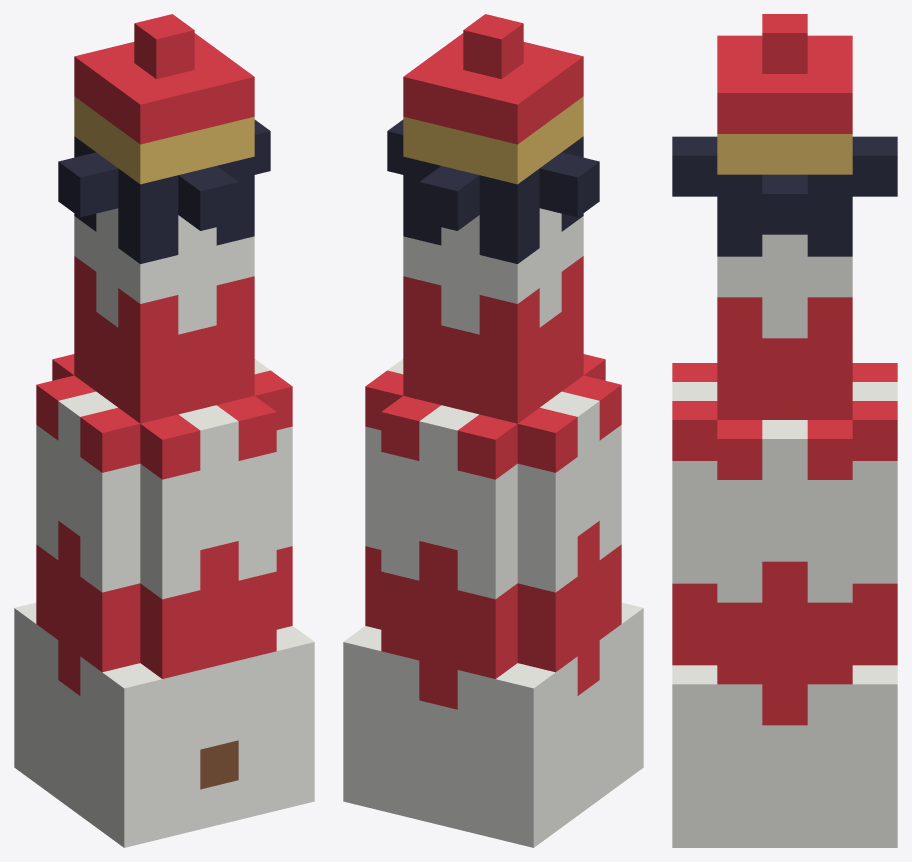
File: lighthouse.glb
The picture shows the model from 3 angles, left to right: view 1: azimuth 30°, elevation 25°; view 2: azimuth 150°, elevation 25°; view 3: azimuth 270°, elevation 25°; orthographic projection. The views are drawn at different scales.
Parts seen in each view (by area): view 1: lighthouse_offwhite, lighthouse_red, lighthouse_black, lighthouse_gold, lighthouse_door; view 2: lighthouse_offwhite, lighthouse_red, lighthouse_black, lighthouse_gold; view 3: lighthouse_offwhite, lighthouse_red, lighthouse_black, lighthouse_gold.
Part boxes in pixels (<box>): lighthouse_offwhite: <box>14,208,314,847</box>; lighthouse_red: <box>36,14,292,695</box>; lighthouse_black: <box>58,119,270,263</box>; lighthouse_gold: <box>74,96,254,184</box>; lighthouse_door: <box>200,740,238,789</box>; lighthouse_offwhite: <box>343,208,643,847</box>; lighthouse_red: <box>365,14,621,709</box>; lighthouse_black: <box>387,119,599,263</box>; lighthouse_gold: <box>403,96,583,184</box>; lighthouse_offwhite: <box>672,234,897,847</box>; lighthouse_red: <box>672,14,897,725</box>; lighthouse_black: <box>672,136,897,256</box>; lighthouse_gold: <box>717,134,852,174</box>.
Size of the model in its own units: 6.85 by 26.03 by 6.85.
